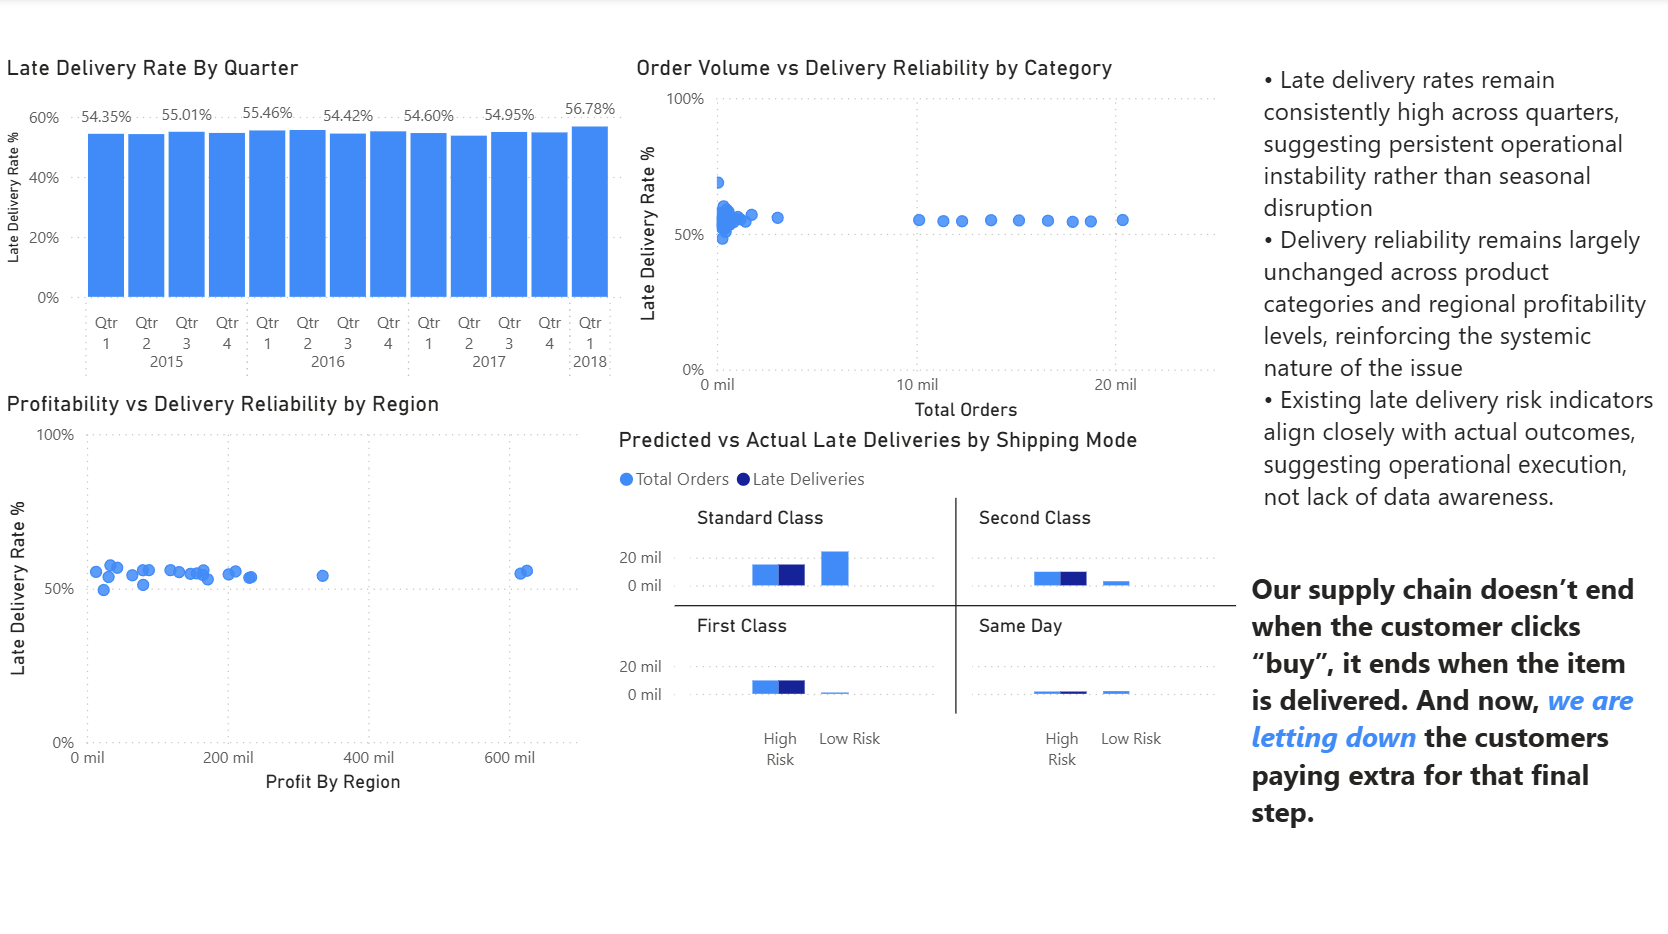

What the dashboard file says about the page in this screenshot:
{"tool":"powerbi","page":{"name":"Página 3","canvas":[1280,720],"ordinal":2},"visuals":[{"type":"clusteredColumnChart","title":"Late Delivery Rate By Quarter","fields":{"Y":["public v_fact_orders.Actual Late Delivery Rate"],"Category":["public v_fact_orders.shipping_date.Variación.Jerarquía de fechas.Año","public v_fact_orders.shipping_date.Variación.Jerarquía de fechas.Trimestre"]},"box":[0,44.3,482.9,257.1],"z":0},{"type":"scatterChart","title":"Order Volume vs Delivery Reliability by Category","fields":{"Y":["public v_fact_orders.Actual Late Delivery Rate"],"Category":["public v_dim_products.category_name"],"X":["public v_fact_orders.Total Orders"]},"box":[482.9,44.3,468.6,284.3],"z":1000},{"type":"clusteredColumnChart","title":"Predicted vs Actual Late Deliveries by Shipping Mode","fields":{"Y":["public v_fact_orders.Total Orders","public v_fact_orders.Late Deliveries"],"Category":["public v_fact_orders.delivery_risk_label"],"Rows":["public v_fact_orders.shipping_mode"]},"box":[468.6,328.6,482.9,284.3],"z":2000},{"type":"scatterChart","title":"Profitability vs Delivery Reliability by Region","fields":{"X":["Sum(public v_fact_orders.profit)"],"Y":["public v_fact_orders.Actual Late Delivery Rate"],"Category":["public v_fact_orders.order_region"]},"box":[0,301.4,468.6,311.4],"z":3000},{"type":"textbox","box":[962,45,318,387],"z":4000},{"type":"textbox","box":[952,432,318,223],"z":5000}]}

Visuals, with their boxes in screenshot pixels (x1, y1, x2, y2), scaled from the page's 1280x720 canvas onto the 1668x934 screenshot:
"Late Delivery Rate By Quarter" clusteredColumnChart: (left=0, top=57, right=629, bottom=391)
"Order Volume vs Delivery Reliability by Category" scatterChart: (left=629, top=57, right=1240, bottom=426)
"Predicted vs Actual Late Deliveries by Shipping Mode" clusteredColumnChart: (left=611, top=426, right=1240, bottom=795)
"Profitability vs Delivery Reliability by Region" scatterChart: (left=0, top=391, right=611, bottom=795)
textbox: (left=1254, top=58, right=1667, bottom=560)
textbox: (left=1241, top=560, right=1655, bottom=850)
